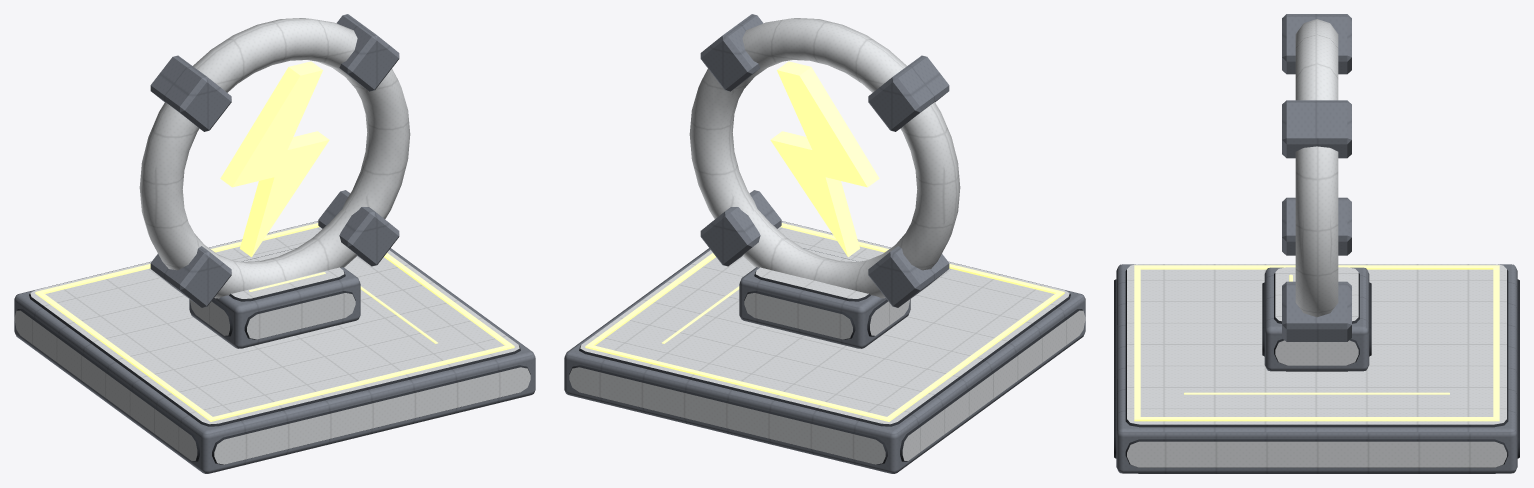
File: R4X_RechargePulse.glb
3 views of the same model, side by side, from view 1: azimuth 30°, elevation 25°; view 2: azimuth 150°, elevation 25°; view 3: azimuth 270°, elevation 25° (orthographic). The views are drawn at different scales.
Visible parts, largest first — view 1: R4X_RechargePulse_Body; view 2: R4X_RechargePulse_Body; view 3: R4X_RechargePulse_Body.
Boxes of the visible parts, x1,y1,x2,y2 form: R4X_RechargePulse_Body: (14, 14, 535, 473); R4X_RechargePulse_Body: (564, 14, 1085, 473); R4X_RechargePulse_Body: (1114, 14, 1519, 473).
Bounding box in the file's own units: 0.52 × 0.5081 × 0.52.
Materials: 4 (3 with a texture image).
